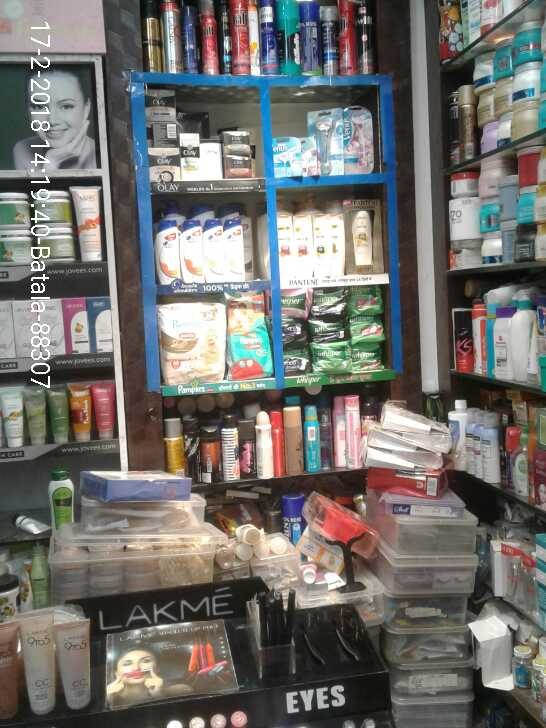gillete: (278, 1, 300, 75)
venus: (344, 108, 372, 174), (313, 115, 344, 174), (272, 138, 311, 177)
